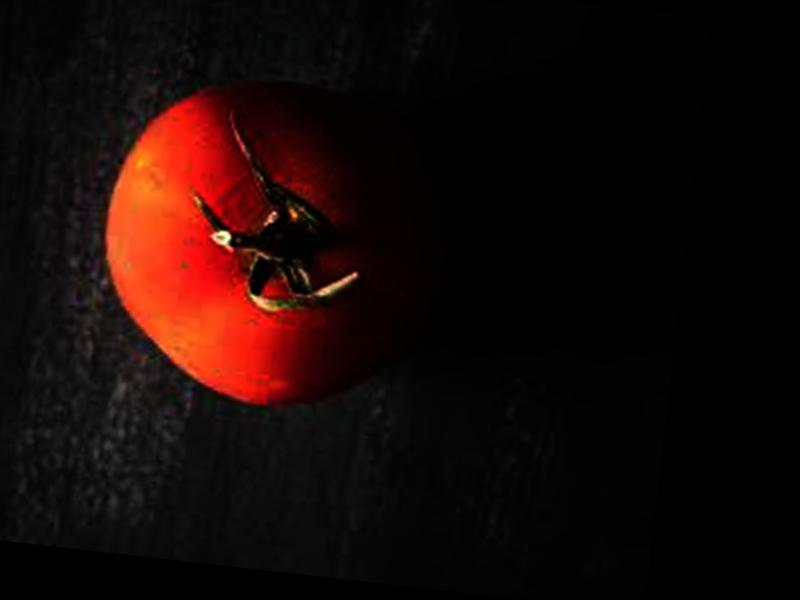Tomato: (86, 68, 455, 422)
